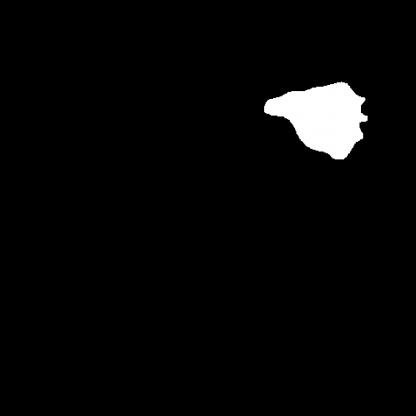malignant: (257, 76, 379, 168)
